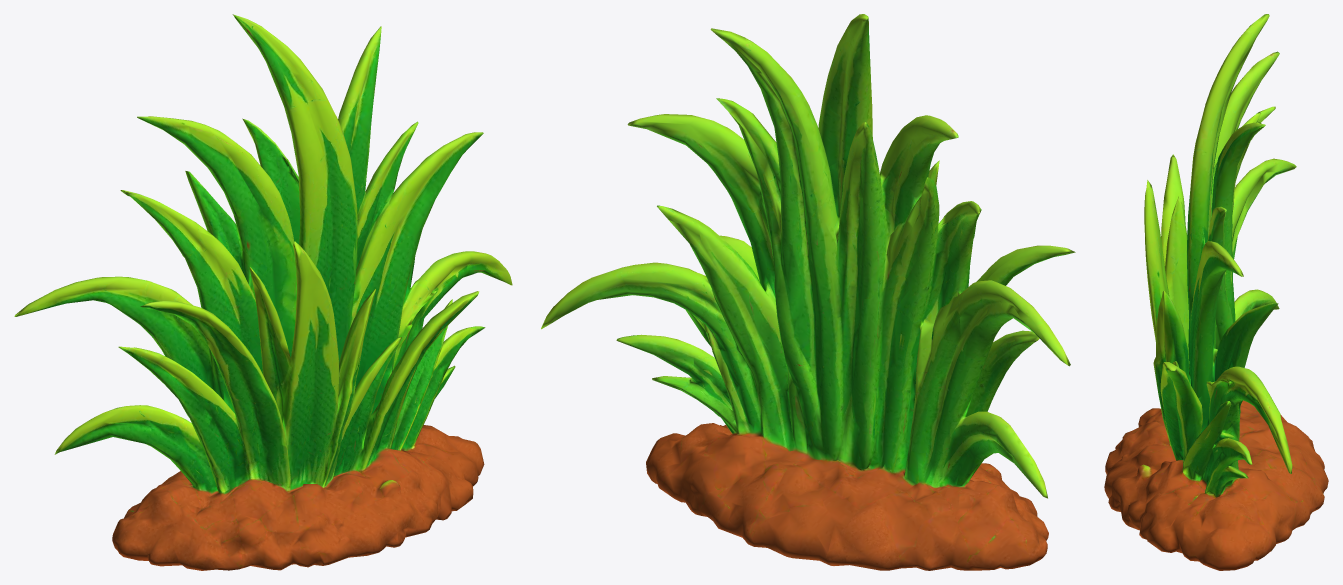
File: grass.glb
3 renders of one model, left to right at view 1: azimuth 30°, elevation 25°; view 2: azimuth 150°, elevation 25°; view 3: azimuth 270°, elevation 25°, orthographic. The views are drawn at different scales.
Bounding box in the file's own units: 1.9 × 1.8 × 0.801.
1 material, 1 textured.
